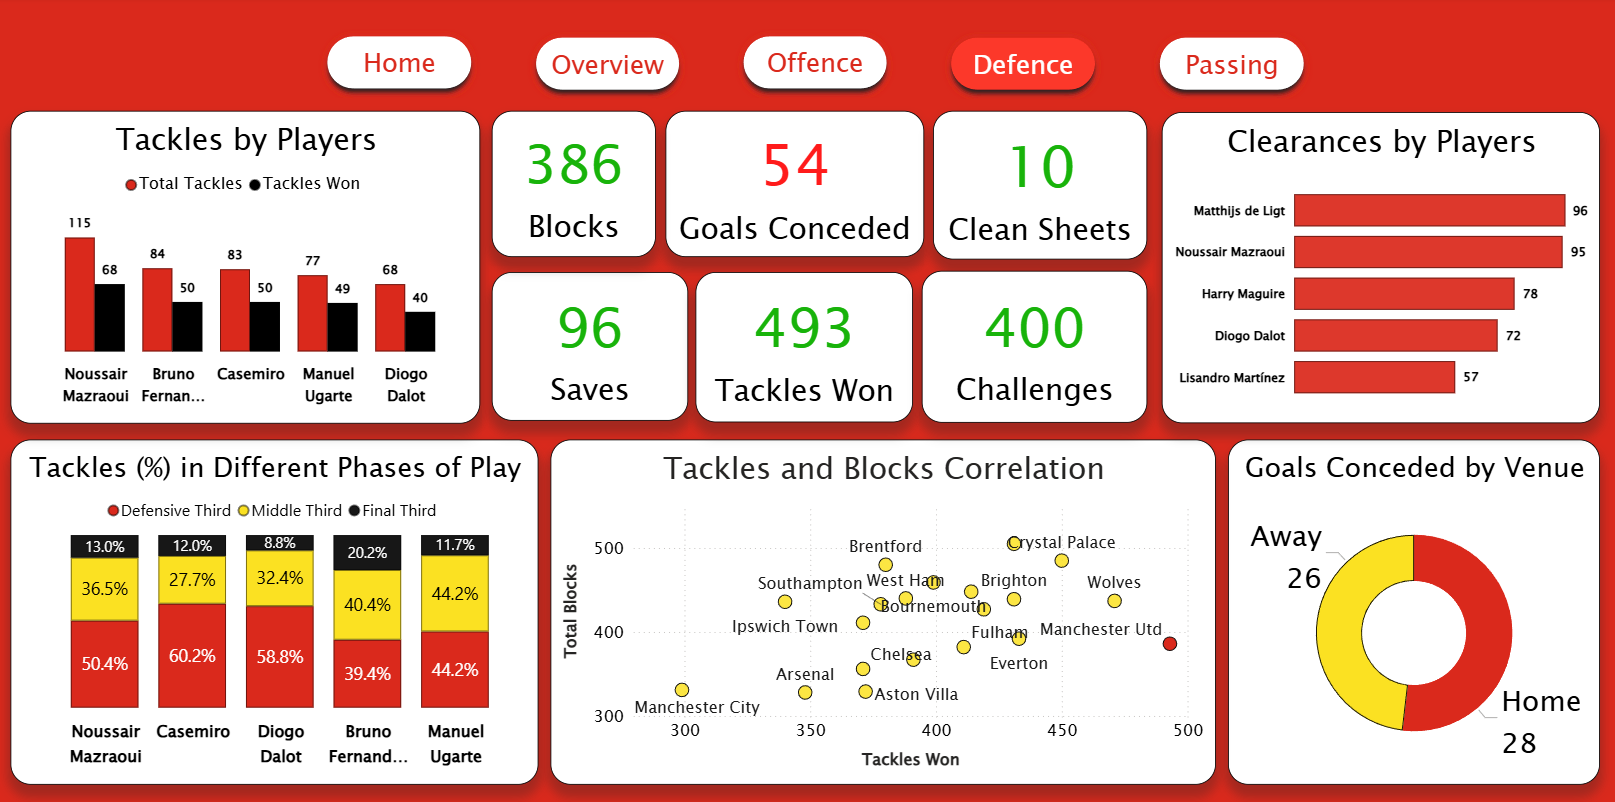

The page's visual inventory and layout, read from the dashboard file:
{"tool":"powerbi","page":{"name":"Defence","canvas":[1600,800],"ordinal":3},"visuals":[{"type":"actionButton","box":[316.4,30,160.9,70],"z":0},{"type":"actionButton","box":[728.6,30.2,160,70],"z":1000},{"type":"actionButton","box":[934.2,30.4,160.9,70],"z":2000},{"type":"actionButton","box":[522.9,30.8,160,70],"z":3000},{"type":"actionButton","box":[1140.8,30.6,160.9,70],"z":4000},{"type":"card","fields":{"Values":["Sum(pl squad overall 24-25.Goals_Against)"]},"box":[660.5,112.6,256,144.7],"z":5000},{"type":"card","fields":{"Values":["Sum(pl gk stats 24-25.Clean_Sheets)"]},"box":[925.3,112.9,211.7,147.6],"z":6000},{"type":"donutChart","title":"Goals Conceded by Venue","fields":{"Category":["pl utd goal and shot creation stats 24-25.Venue"],"Y":["Sum(pl utd goal and shot creation stats 24-25.Goals Against)"]},"box":[1216.6,437.6,368.3,341.4],"z":7000},{"type":"hundredPercentStackedColumnChart","title":"Tackles (%) in Different Phases of Play","fields":{"Y":["Sum(pl utd defensive actions 24-25.Tackles_Defensive_Third)","Sum(pl utd defensive actions 24-25.Tackles_Middle_Third)","Sum(pl utd defensive actions 24-25.Tackles_Attacking_Third)"],"Category":["pl utd defensive actions 24-25.Player"]},"box":[12.8,437.6,522.3,341.4],"z":8000},{"type":"clusteredColumnChart","title":"Tackles by Players","fields":{"Category":["pl utd defensive actions 24-25.Player"],"Y":["Sum(pl utd defensive actions 24-25.Tackles_Total)","Sum(pl utd defensive actions 24-25.Tackles_Won)"]},"box":[12.4,112.6,465.1,309.2],"z":9000},{"type":"card","fields":{"Values":["Sum(pl gk stats 24-25.Saves)"]},"box":[488.6,272.1,194.2,147.2],"z":10000},{"type":"card","fields":{"Values":["Sum(pl squad defensive actions 24-25.Blocks_Total)"]},"box":[488.6,112.6,162,144.7],"z":11000},{"type":"scatterChart","title":"Tackles and Blocks Correlation","fields":{"X":["Sum(pl squad defensive actions 24-25.Tackles_Won)"],"Y":["Sum(pl squad defensive actions 24-25.Blocks_Total)"],"Category":["pl squad defensive actions 24-25.Squad"]},"box":[546.7,437.6,658.3,341.4],"z":12000},{"type":"card","fields":{"Values":["Sum(pl squad defensive actions 24-25.Tackles_Won)"]},"box":[690.4,272.1,215.6,148.9],"z":13000},{"type":"card","fields":{"Values":["Sum(pl squad defensive actions 24-25.Challenges_Total)"]},"box":[913.7,270.8,223.3,150.1],"z":14000},{"type":"barChart","title":"Clearances by Players","fields":{"Y":["Sum(pl utd defensive actions 24-25.Clearances)"],"Category":["pl utd defensive actions 24-25.Player"]},"box":[1151.1,114.2,433.8,308],"z":15000}]}

Visuals, with their boxes in screenshot pixels (x1, y1, x2, y2), scaled from the page's 1600x800 canvas onto the 1615x802 screenshot:
actionButton: (x1=319, y1=30, x2=482, y2=100)
actionButton: (x1=735, y1=30, x2=897, y2=100)
actionButton: (x1=943, y1=30, x2=1105, y2=101)
actionButton: (x1=528, y1=31, x2=689, y2=101)
actionButton: (x1=1151, y1=31, x2=1314, y2=101)
card - Sum(pl squad overall 24-25.Goals_Against): (x1=667, y1=113, x2=925, y2=258)
card - Sum(pl gk stats 24-25.Clean_Sheets): (x1=934, y1=113, x2=1148, y2=261)
"Goals Conceded by Venue" donutChart: (x1=1228, y1=439, x2=1600, y2=781)
"Tackles (%) in Different Phases of Play" hundredPercentStackedColumnChart: (x1=13, y1=439, x2=540, y2=781)
"Tackles by Players" clusteredColumnChart: (x1=13, y1=113, x2=482, y2=423)
card - Sum(pl gk stats 24-25.Saves): (x1=493, y1=273, x2=689, y2=420)
card - Sum(pl squad defensive actions 24-25.Blocks_Total): (x1=493, y1=113, x2=657, y2=258)
"Tackles and Blocks Correlation" scatterChart: (x1=552, y1=439, x2=1216, y2=781)
card - Sum(pl squad defensive actions 24-25.Tackles_Won): (x1=697, y1=273, x2=914, y2=422)
card - Sum(pl squad defensive actions 24-25.Challenges_Total): (x1=922, y1=271, x2=1148, y2=422)
"Clearances by Players" barChart: (x1=1162, y1=114, x2=1600, y2=423)
